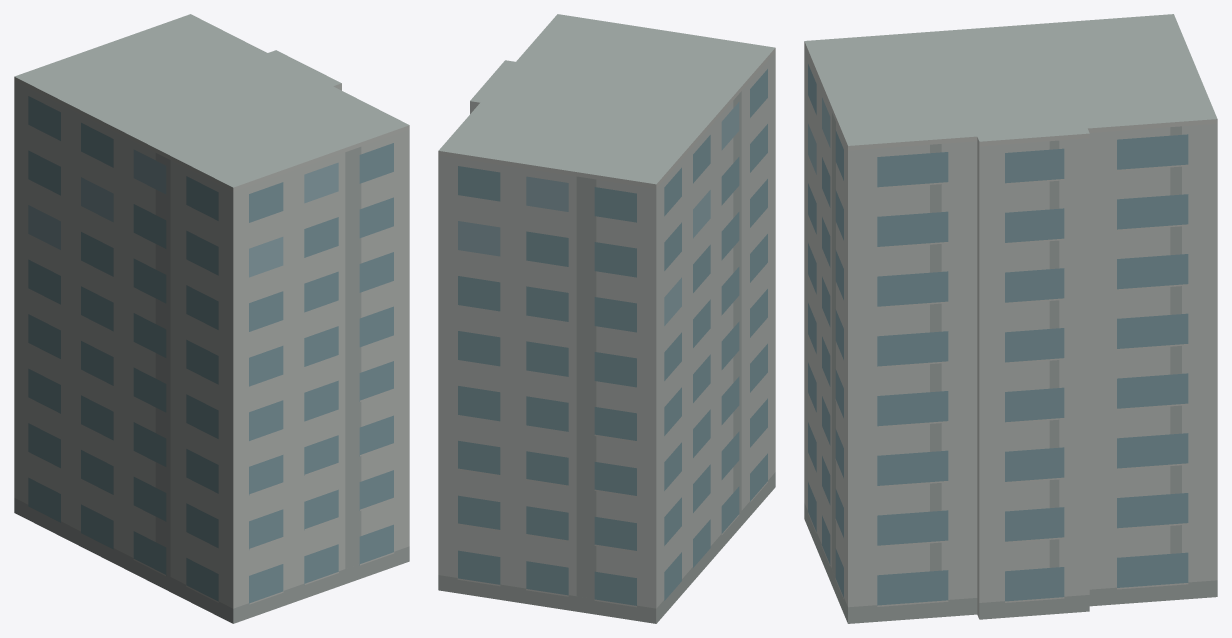
The model's file is survey-upis-32905574.glb.
3 renders of one model, left to right at view 1: azimuth 30°, elevation 25°; view 2: azimuth 150°, elevation 25°; view 3: azimuth 270°, elevation 25°, orthographic. The views are drawn at different scales.
Parts seen in each view (by area): view 1: survey-upis-32905574.tmp; view 2: survey-upis-32905574.tmp; view 3: survey-upis-32905574.tmp.
Boxes of the visible parts, x1,y1,x2,y2 form: survey-upis-32905574.tmp: (14, 14, 409, 623); survey-upis-32905574.tmp: (438, 14, 775, 623); survey-upis-32905574.tmp: (804, 14, 1217, 623).
Bounding box in the file's own units: 14.63 × 24.7 × 19.36.
